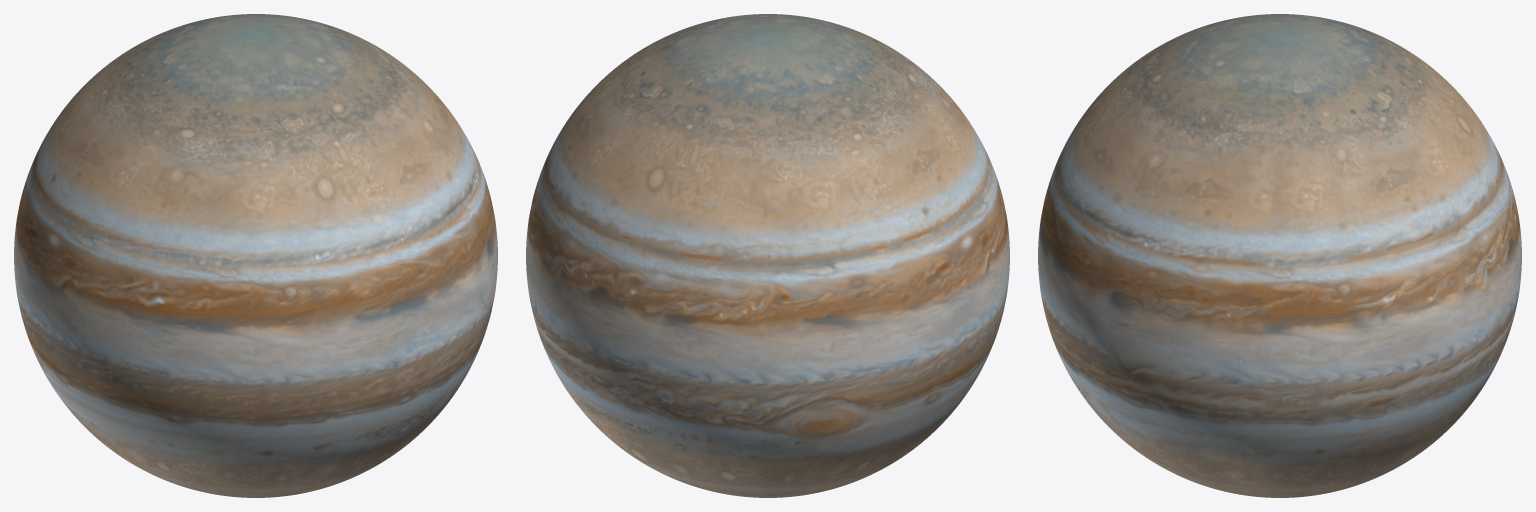
The model's file is maya2sketchfab.fbx.
3 renders of one model, left to right at view 1: azimuth 30°, elevation 25°; view 2: azimuth 150°, elevation 25°; view 3: azimuth 270°, elevation 25°, orthographic.
Visible parts, largest first — view 1: pSphere1; view 2: pSphere1; view 3: pSphere1.
Boxes of the visible parts, x1=… form: pSphere1: x1=14, y1=14, x2=497, y2=497; pSphere1: x1=526, y1=14, x2=1009, y2=497; pSphere1: x1=1038, y1=14, x2=1521, y2=497.
Bounding box in the file's own units: 13.48 × 13.48 × 13.48.
1 material, 1 textured.
